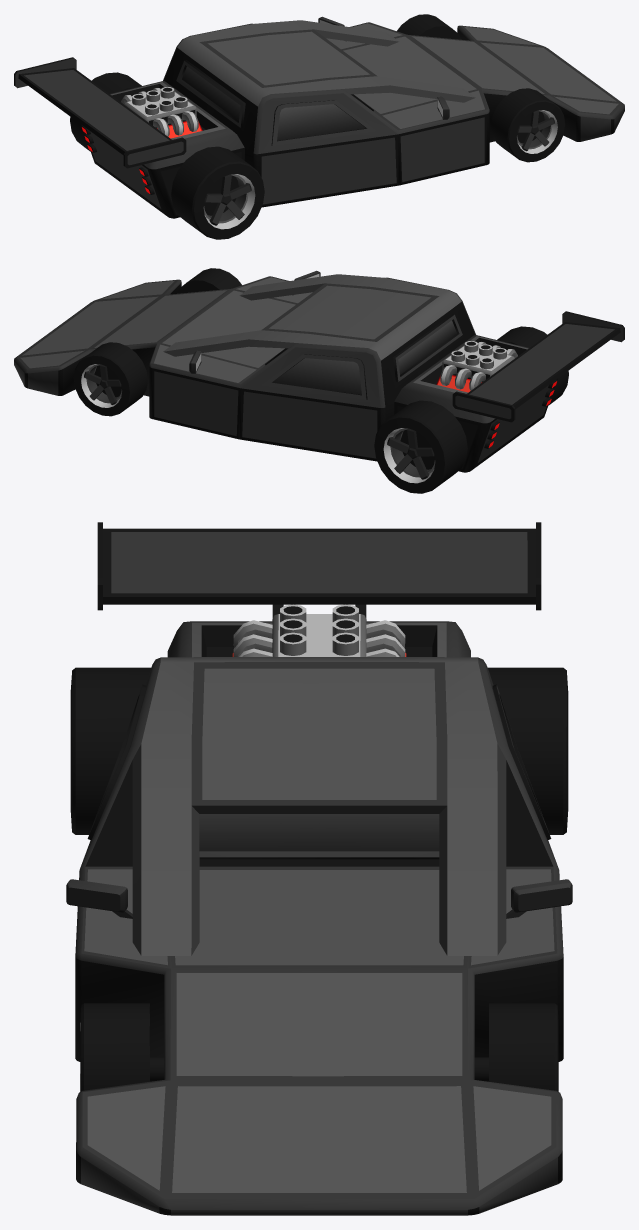
Rendered from Car_088.glb.
The picture shows the model from 3 angles, top to bottom: view 1: azimuth 30°, elevation 25°; view 2: azimuth 150°, elevation 25°; view 3: azimuth 270°, elevation 25°; orthographic projection. The views are drawn at different scales.
Parts seen in each view (by area): view 1: Car_088, wheel_3_Car_088_Wheel_2R, wheel_1_Car_088_Wheel_1R, wheel_0_Car_088_Wheel_1L, wheel_2_Car_088_Wheel_2L; view 2: Car_088, wheel_2_Car_088_Wheel_2L, wheel_0_Car_088_Wheel_1L, wheel_1_Car_088_Wheel_1R, wheel_3_Car_088_Wheel_2R; view 3: Car_088, wheel_2_Car_088_Wheel_2L, wheel_3_Car_088_Wheel_2R, wheel_0_Car_088_Wheel_1L, wheel_1_Car_088_Wheel_1R.
Part boxes in pixels (x1=…): Car_088: x1=14, y1=16, x2=624, y2=218; wheel_3_Car_088_Wheel_2R: x1=171, y1=146, x2=264, y2=239; wheel_1_Car_088_Wheel_1R: x1=491, y1=88, x2=565, y2=162; wheel_0_Car_088_Wheel_1L: x1=397, y1=14, x2=461, y2=39; wheel_2_Car_088_Wheel_2L: x1=70, y1=72, x2=141, y2=151; Car_088: x1=14, y1=270, x2=624, y2=472; wheel_2_Car_088_Wheel_2L: x1=374, y1=400, x2=467, y2=493; wheel_0_Car_088_Wheel_1L: x1=73, y1=342, x2=147, y2=416; wheel_1_Car_088_Wheel_1R: x1=177, y1=268, x2=241, y2=293; wheel_3_Car_088_Wheel_2R: x1=497, y1=326, x2=568, y2=405; Car_088: x1=66, y1=522, x2=572, y2=1215; wheel_2_Car_088_Wheel_2L: x1=488, y1=667, x2=568, y2=834; wheel_3_Car_088_Wheel_2R: x1=70, y1=667, x2=150, y2=834; wheel_0_Car_088_Wheel_1L: x1=489, y1=1003, x2=558, y2=1091; wheel_1_Car_088_Wheel_1R: x1=80, y1=1003, x2=149, y2=1091.
Size of the model in its own units: 5.14 by 1.08 by 2.18.
2 materials, 2 textured.
